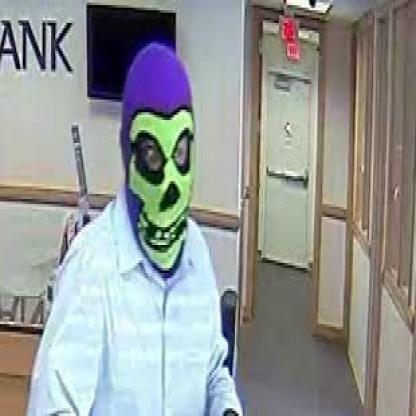criminal: (25, 43, 245, 416)
